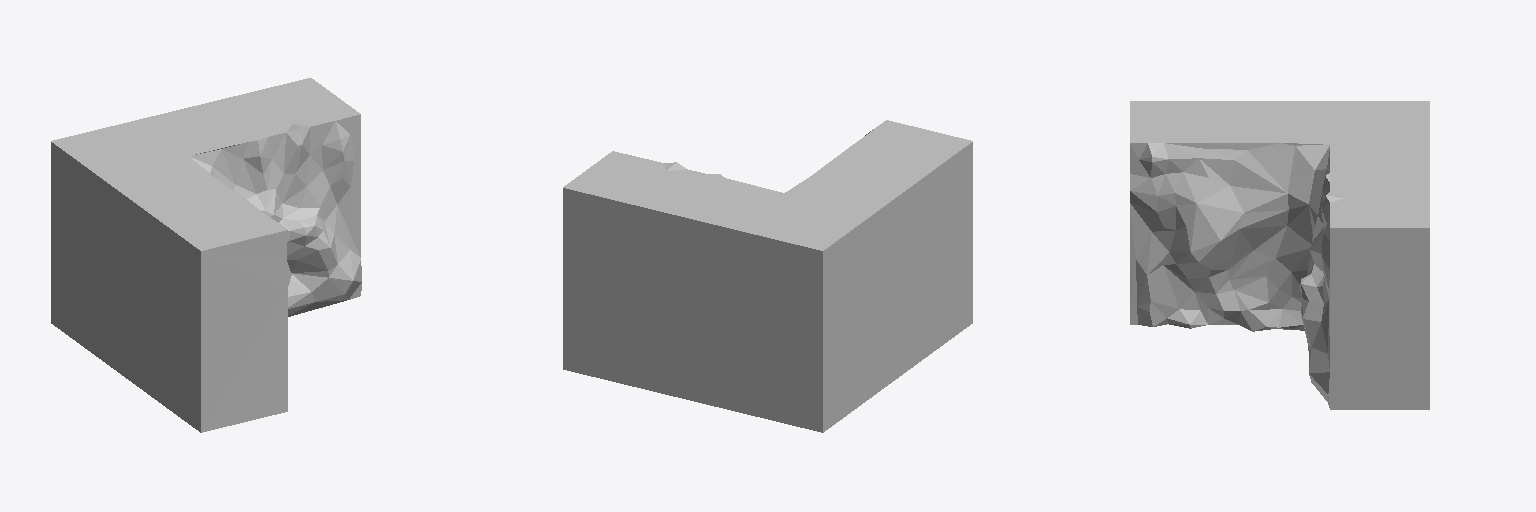
The model's file is 4x4corner_wall.obj.
The picture shows the model from 3 angles: view 1: azimuth 30°, elevation 25°; view 2: azimuth 150°, elevation 25°; view 3: azimuth 270°, elevation 25°; orthographic projection.
Visible parts, largest first — view 1: wall_corner4x4_Cube.021; view 2: wall_corner4x4_Cube.021; view 3: wall_corner4x4_Cube.021.
Part boxes in pixels (bbox=[...]): wall_corner4x4_Cube.021: bbox=[51, 78, 361, 432]; wall_corner4x4_Cube.021: bbox=[563, 120, 972, 432]; wall_corner4x4_Cube.021: bbox=[1130, 101, 1429, 409].
Size of the model in its own units: 6 by 4.13 by 6.